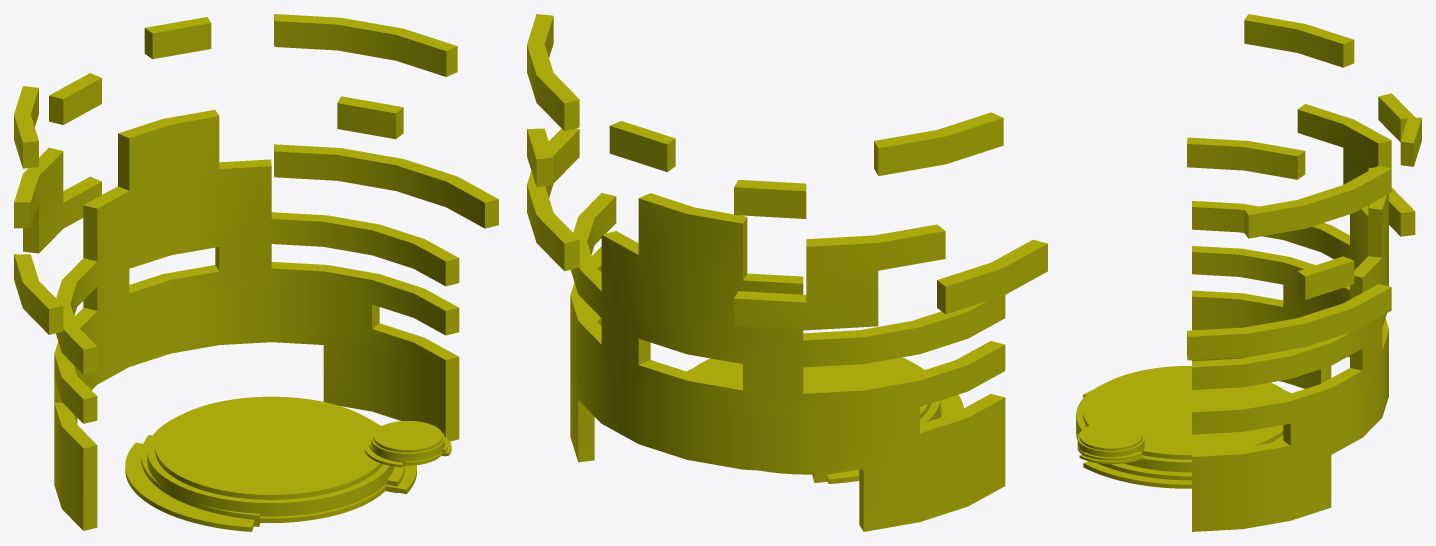
The model's file is lobby_platform_1.glb.
The picture shows the model from 3 angles, left to right: view 1: azimuth 30°, elevation 25°; view 2: azimuth 150°, elevation 25°; view 3: azimuth 270°, elevation 25°; orthographic projection. The views are drawn at different scales.
Visible parts, largest first — view 1: lobby_platform_1, lobby_platform_2; view 2: lobby_platform_1; view 3: lobby_platform_1, lobby_platform_2.
Boxes of the visible parts, box(x1,y1,x2,y2) form: lobby_platform_1: box(14, 14, 498, 531); lobby_platform_2: box(364, 421, 451, 467); lobby_platform_1: box(527, 14, 1047, 531); lobby_platform_1: box(1076, 14, 1421, 531); lobby_platform_2: box(1077, 422, 1144, 464).
Bounding box in the file's own units: 0.5882 × 0.4654 × 0.431.
Materials: 1 (1 with a texture image).
